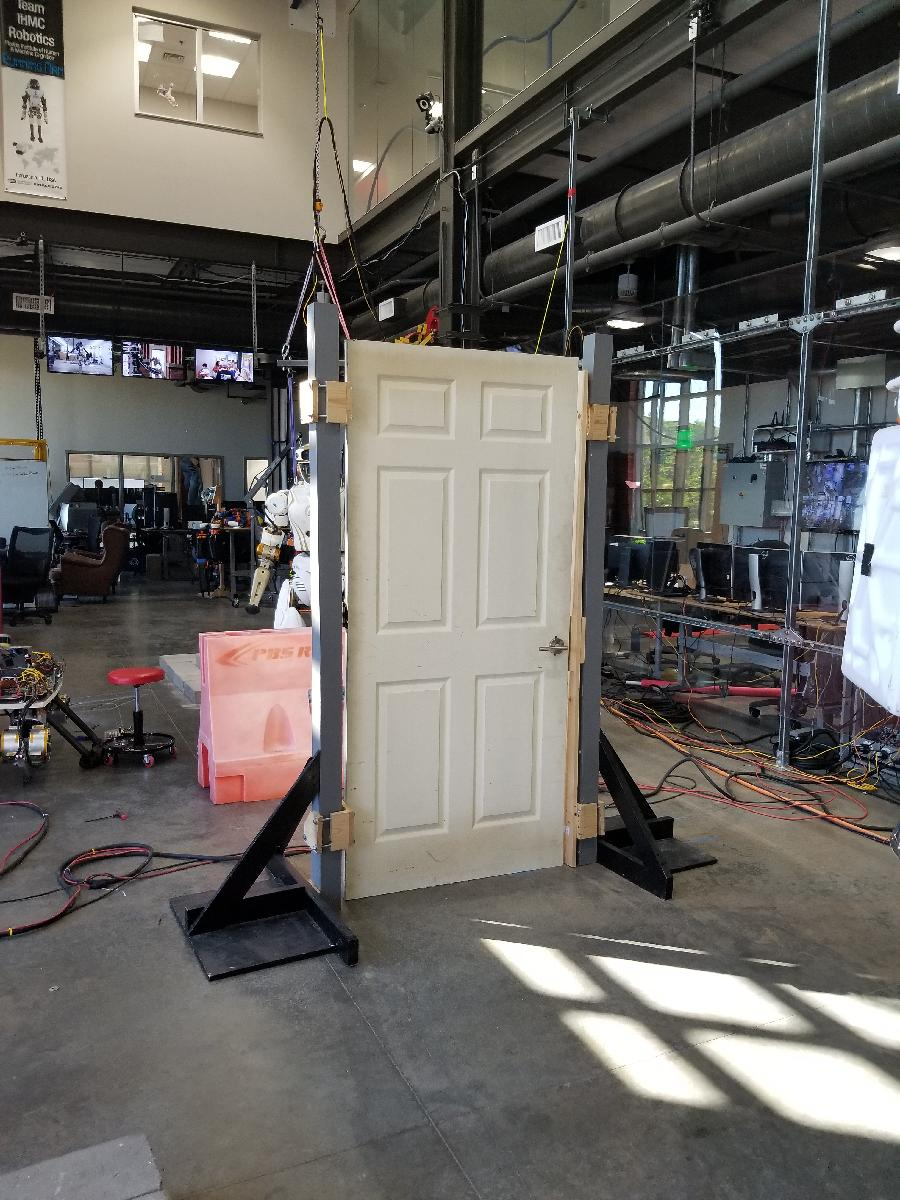door: (340, 336, 583, 905)
doorHandle: (532, 632, 574, 663)
